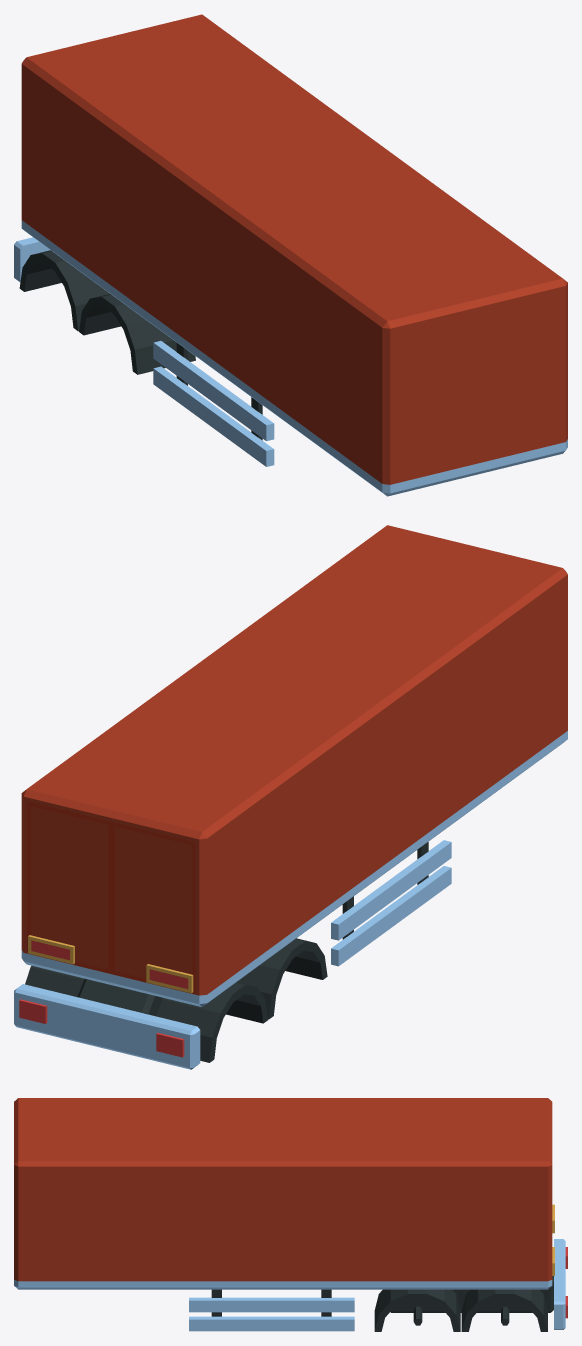
The model's file is LorryTrailer.fbx.
3 views of the same model, one above another, from view 1: azimuth 30°, elevation 25°; view 2: azimuth 150°, elevation 25°; view 3: azimuth 270°, elevation 25° (orthographic). The views are drawn at different scales.
Visible parts, largest first — view 1: Trailer; view 2: Trailer, TrailerDoor.001, TrailerDoor; view 3: Trailer.
Boxes of the visible parts, left/top/right/bottom form: Trailer: left=14, top=14, right=567, bottom=496; Trailer: left=14, top=525, right=567, bottom=1069; TrailerDoor.001: left=111, top=822, right=195, bottom=994; TrailerDoor: left=27, top=801, right=111, bottom=973; Trailer: left=14, top=1098, right=567, bottom=1331.
Size of the model in its own units: 212 by 251 by 730.
